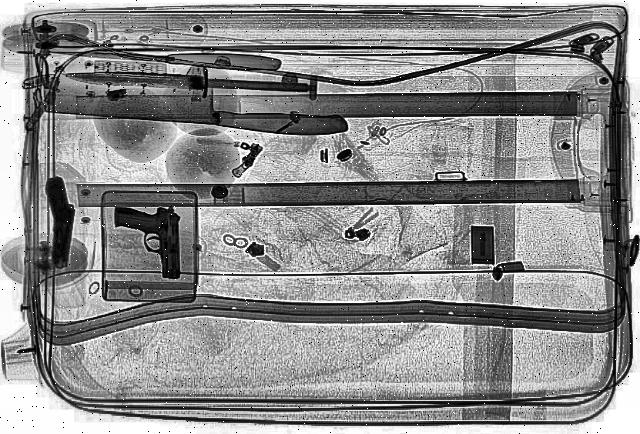Gun: (113, 208, 181, 280), (43, 178, 77, 268)
Knife: (38, 68, 354, 139), (43, 43, 280, 75), (60, 70, 308, 96)
